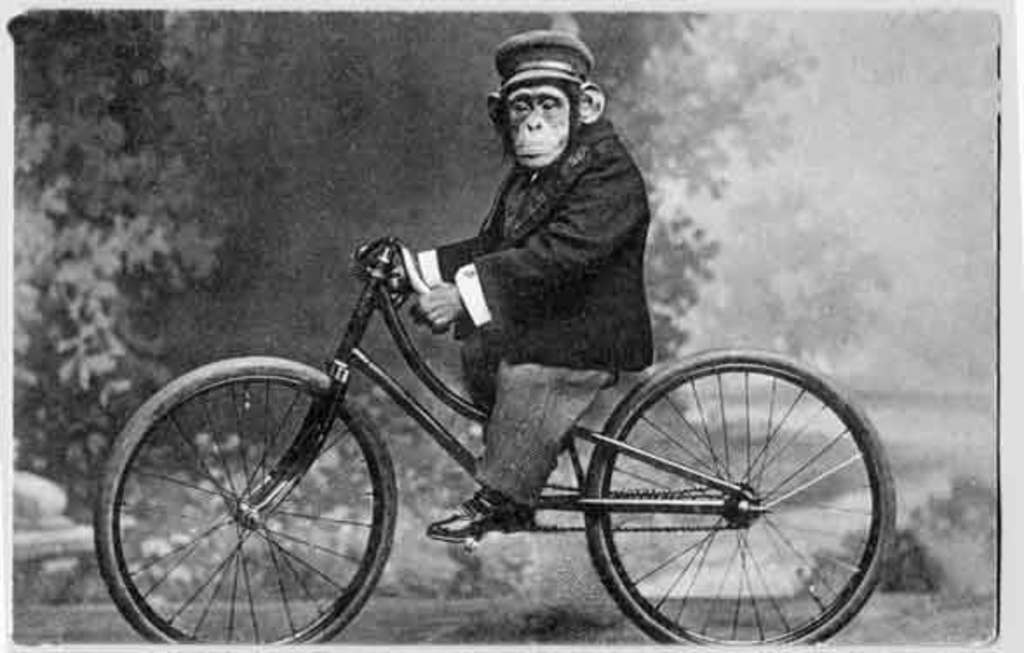Bike_away: (95, 237, 902, 636)
